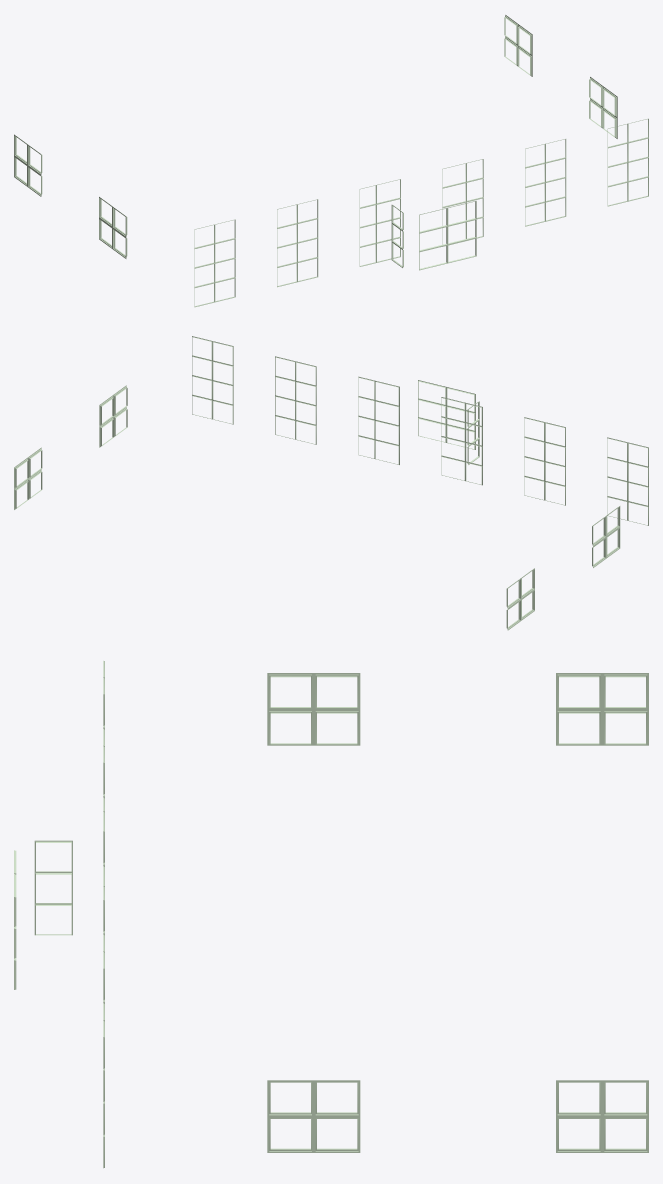
File: FairyTale241.gltf
The picture shows the model from 3 angles, top to bottom: view 1: azimuth 30°, elevation 25°; view 2: azimuth 150°, elevation 25°; view 3: azimuth 270°, elevation 25°; orthographic projection. The views are drawn at different scales.
Visible parts, largest first — view 1: HouseMD04_Mullions_Wood; view 2: HouseMD04_Mullions_Wood; view 3: HouseMD04_Mullions_Wood.
Part boxes in pixels (box(x1,y1,x2,y2)): HouseMD04_Mullions_Wood: box(14, 15, 648, 307); HouseMD04_Mullions_Wood: box(14, 336, 648, 630); HouseMD04_Mullions_Wood: box(14, 660, 648, 1168).
Bounding box in the file's own units: 9.53 × 1.45 × 6.27.
